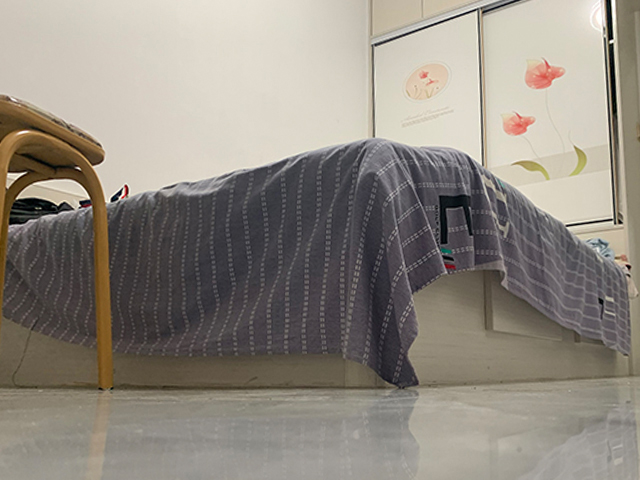bed: (2, 138, 640, 390)
stool: (1, 94, 114, 392)
